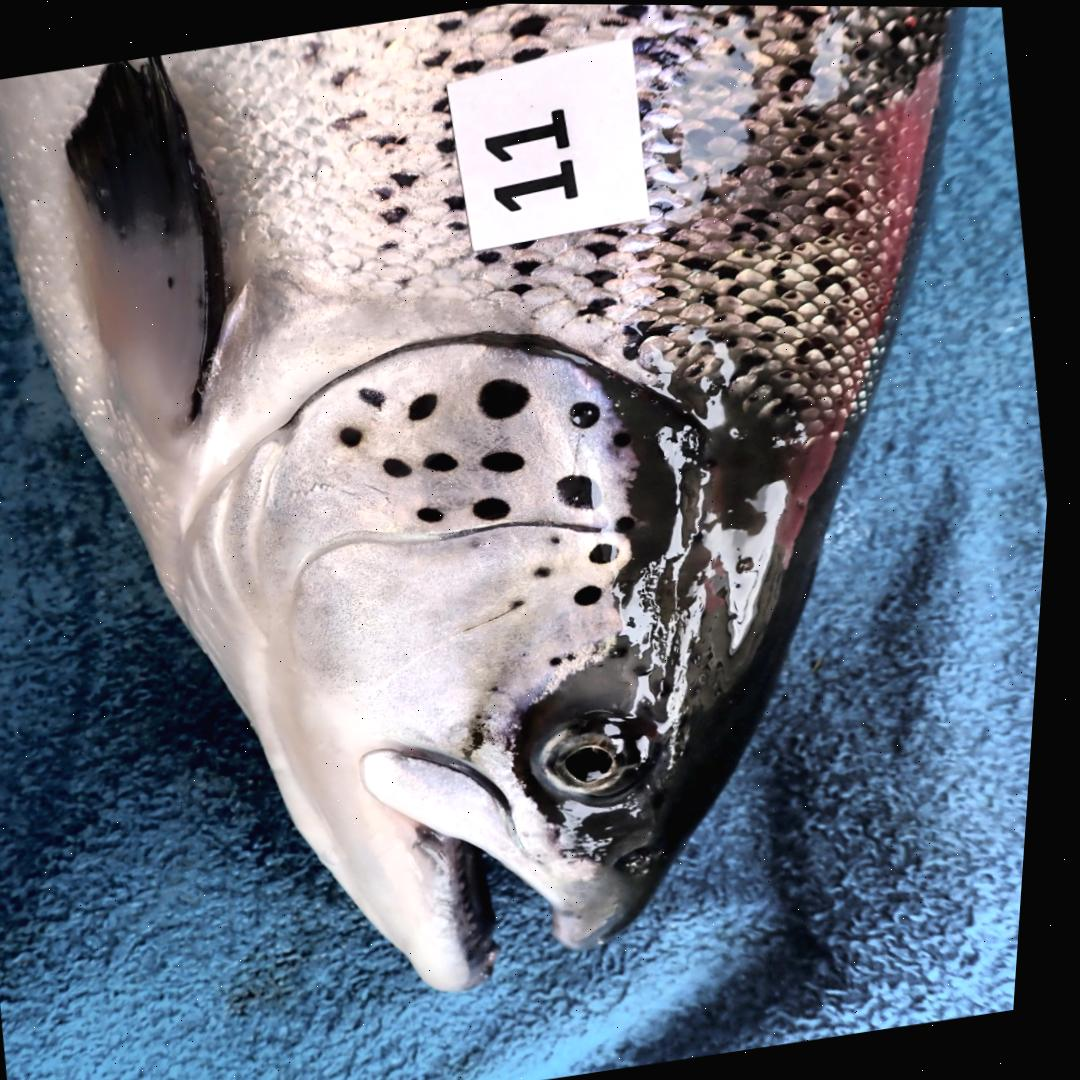spot: (482, 376, 535, 418), (563, 472, 600, 507), (486, 449, 530, 471), (573, 398, 606, 427), (479, 495, 517, 519), (414, 391, 442, 420), (428, 450, 463, 470), (581, 583, 610, 604), (388, 456, 418, 476), (363, 385, 390, 406), (597, 541, 623, 561), (344, 425, 368, 445), (425, 505, 451, 521), (622, 514, 643, 530), (619, 429, 637, 444), (600, 637, 615, 652), (516, 596, 533, 609), (541, 564, 559, 576), (570, 647, 585, 661), (474, 534, 489, 546), (557, 653, 571, 665), (555, 533, 569, 542), (499, 684, 509, 691)
